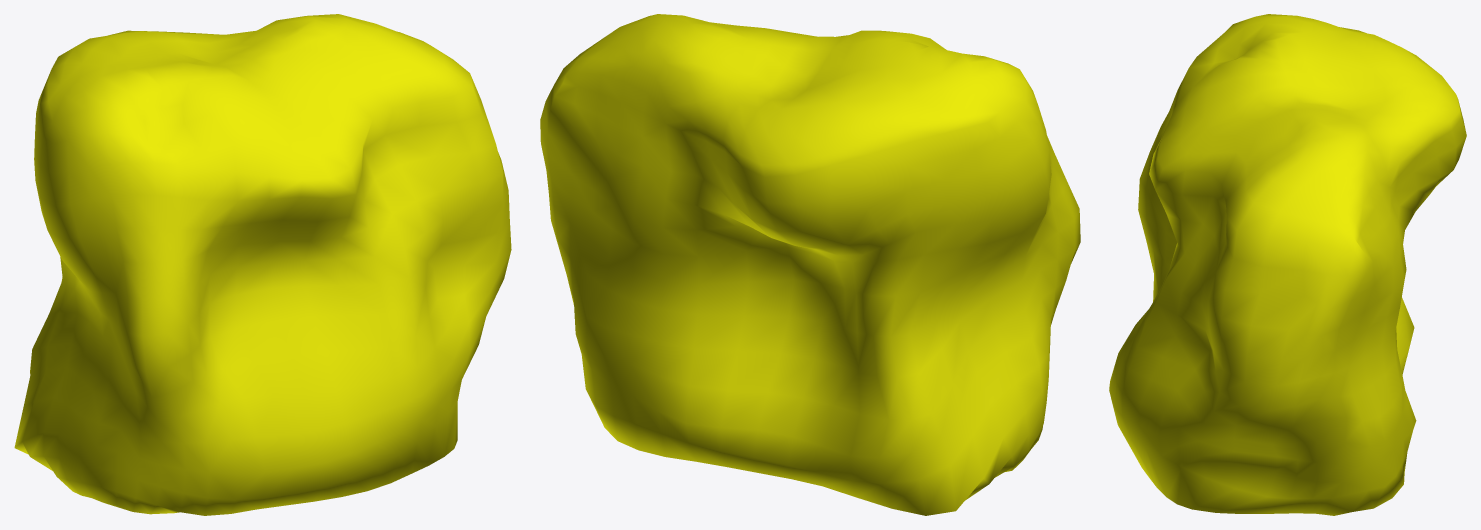
File: E_Mur_03.fbx
The picture shows the model from 3 angles, left to right: view 1: azimuth 30°, elevation 25°; view 2: azimuth 150°, elevation 25°; view 3: azimuth 270°, elevation 25°; orthographic projection. The views are drawn at different scales.
Parts seen in each view (by area): view 1: bolder99; view 2: bolder99; view 3: bolder99.
Part boxes in pixels (box(x1,y1,x2,y2)): bolder99: box(14, 14, 511, 515); bolder99: box(540, 14, 1080, 515); bolder99: box(1109, 14, 1466, 515).
Bounding box in the file's own units: 2.7 × 2.23 × 1.98.
